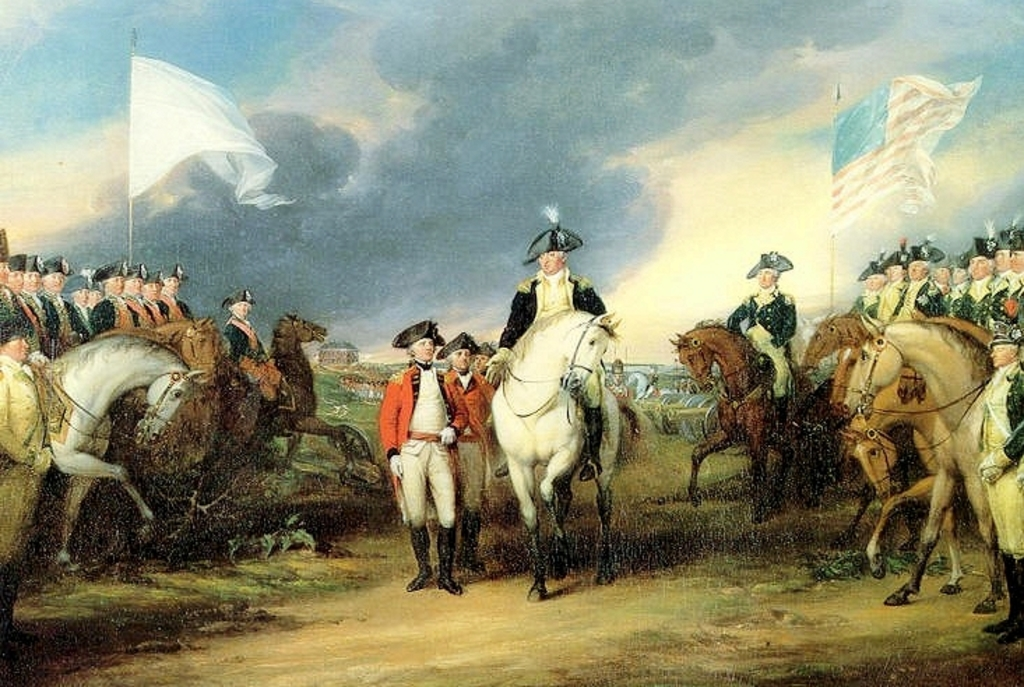Person: (0, 197, 1023, 665), (0, 223, 1020, 596)
